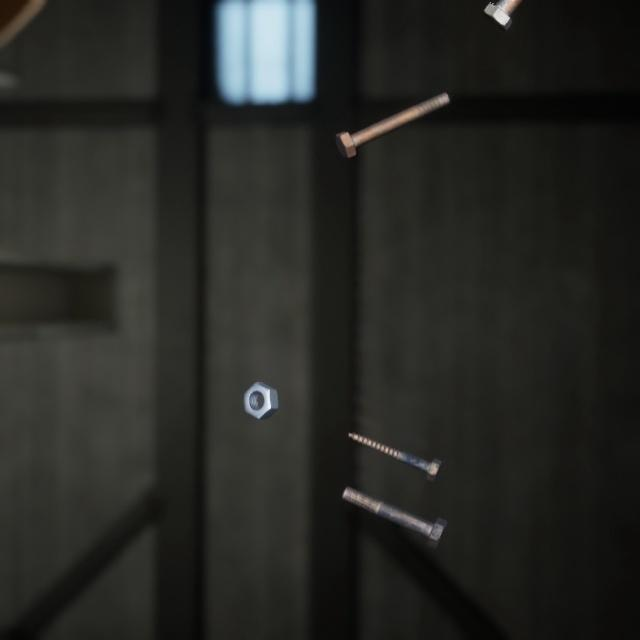bolt: (330, 76, 454, 151), (337, 461, 451, 531), (344, 408, 446, 466), (479, 0, 524, 31)
nut: (239, 357, 283, 403)
